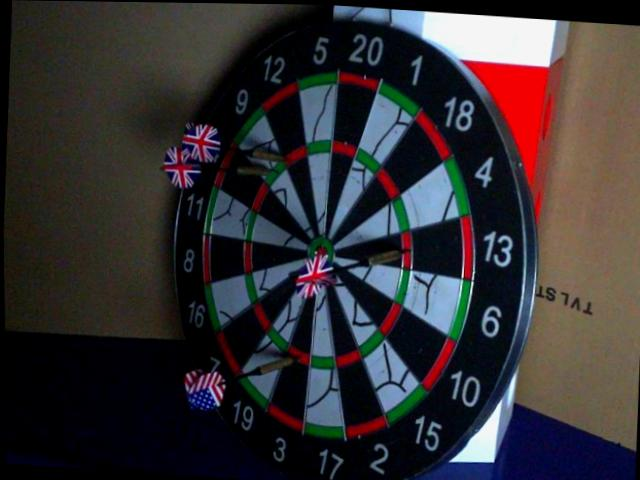triple_12: (283, 145, 309, 170)
triple_13: (398, 235, 414, 274)
triple_3: (288, 348, 307, 363)
triple_9: (265, 159, 284, 188)
